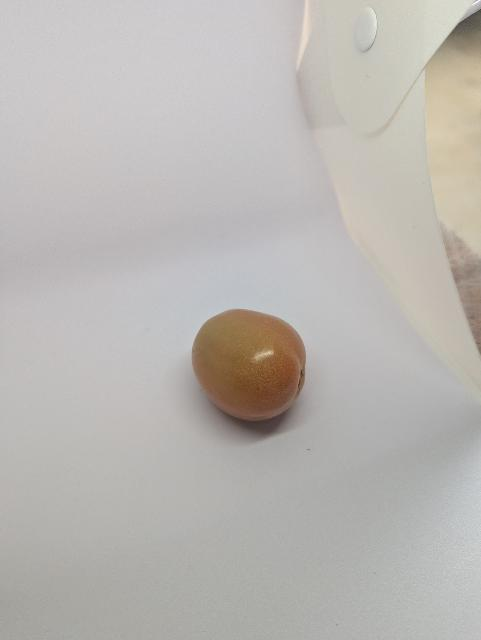turning: (185, 301, 319, 434)
